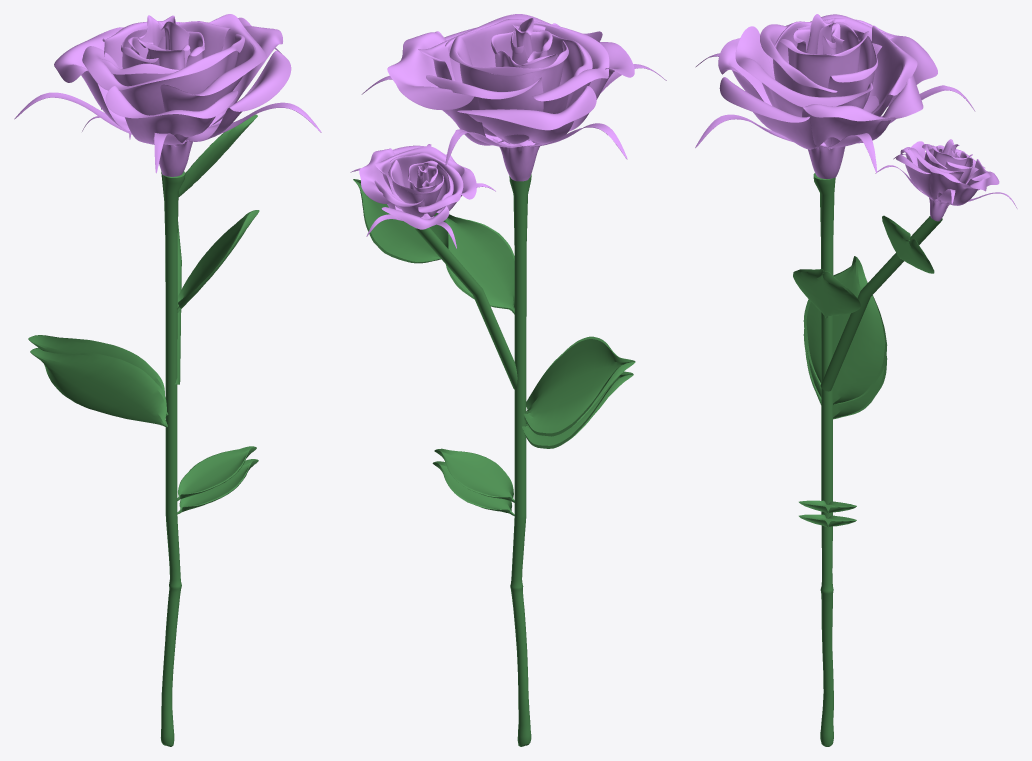
The model's file is rosepurplecp.glb.
3 renders of one model, left to right at view 1: azimuth 30°, elevation 25°; view 2: azimuth 150°, elevation 25°; view 3: azimuth 270°, elevation 25°, orthographic.
Visible parts, largest first — view 1: List-02; view 2: List-02; view 3: List-02.
Boxes of the visible parts, bbox=[...] form: List-02: bbox=[14, 14, 321, 746]; List-02: bbox=[350, 14, 666, 746]; List-02: bbox=[695, 14, 1017, 746].
Bounding box in the file's own units: 1.59 × 4.14 × 1.66.
